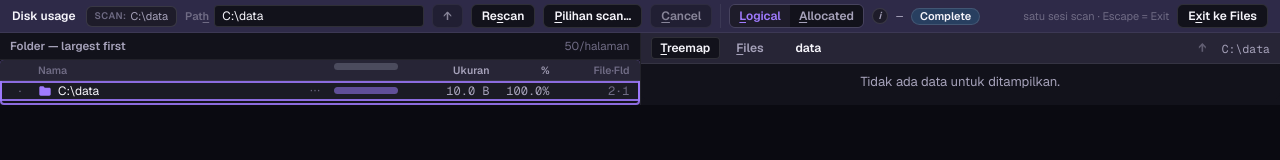
it: DiskUsageWorkspace — focus and address synchronization › address bar Enter for non-existent path within root scan displays notice without rescanning
The width and height of the screenshot is (1280, 160).
Replace the text in the field named "Path root scan disk usage" with "C:\\data\\does_not_exist" at (319, 16), box [214,5,424,27]
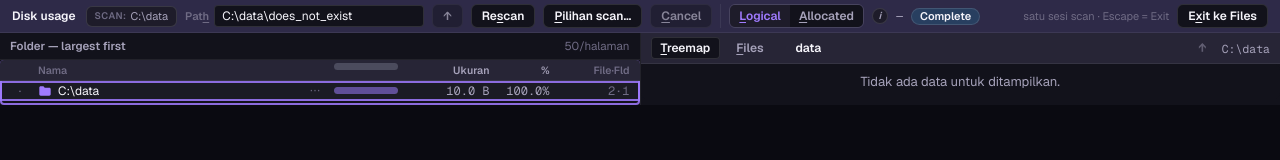
Press Enter in the field named "Path root scan disk usage", box [214,5,424,27]
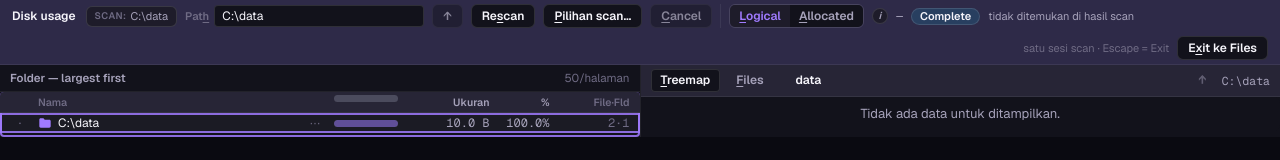
Check: the text "tidak ditemukan di hasil scan" is shown, box [988,9,1134,24]
Check: the text with class "notice" reads "tidak ditemukan di hasil scan", box [988,9,1134,23]
